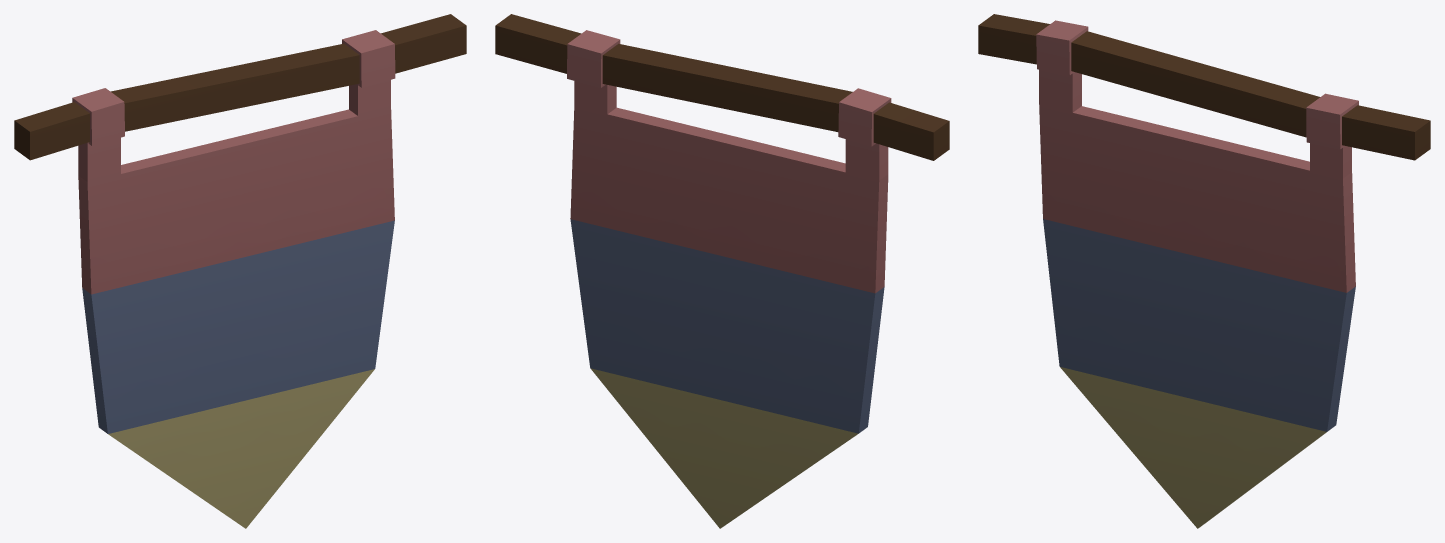
3 renders of one model, left to right at view 1: azimuth 30°, elevation 25°; view 2: azimuth 150°, elevation 25°; view 3: azimuth 330°, elevation 25°, orthographic.
Visible parts, largest first — view 1: Flag1_0; view 2: Flag1_0; view 3: Flag1_0.
Boxes of the visible parts, <box> form: Flag1_0: <box>14,14,466,528</box>; Flag1_0: <box>495,14,949,528</box>; Flag1_0: <box>978,14,1430,528</box>.
Bounding box in the file's own units: 4.11 × 4.14 × 0.3129.
Materials: 1 (1 with a texture image).
